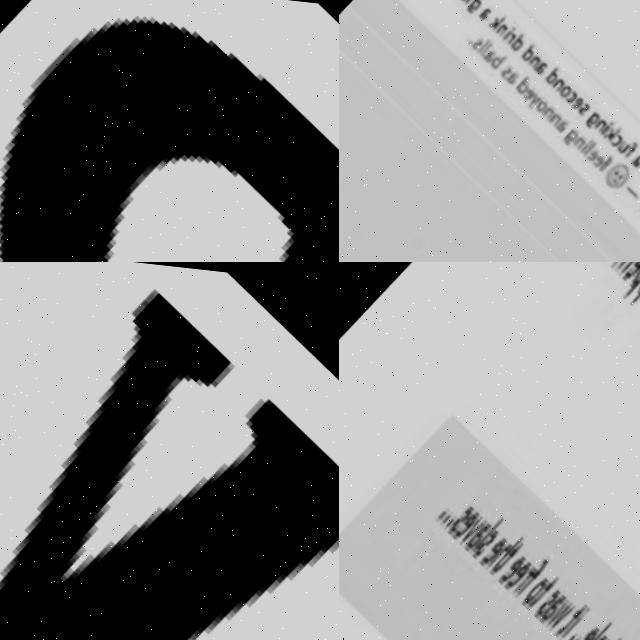A: (530, 50, 549, 70), (501, 60, 520, 80), (478, 38, 497, 58), (551, 106, 569, 126), (474, 0, 493, 16), (625, 141, 640, 158)
B: (486, 42, 507, 65)
C: (560, 79, 578, 97), (605, 123, 622, 139)
D: (0, 0, 339, 262), (517, 33, 538, 55), (507, 24, 528, 46), (512, 67, 533, 89), (541, 56, 561, 78)
E: (580, 136, 598, 155), (518, 77, 535, 95), (567, 86, 584, 103), (588, 144, 604, 160)
F: (616, 127, 638, 150), (593, 144, 612, 165)
G: (556, 118, 577, 139), (580, 100, 599, 121), (463, 0, 482, 9)
I: (596, 109, 613, 128), (574, 127, 591, 145), (500, 18, 515, 34)
K: (486, 3, 506, 25), (599, 113, 620, 133)
L: (478, 34, 494, 51), (579, 131, 594, 147), (474, 31, 489, 47)
N: (544, 102, 563, 120), (547, 67, 565, 84), (493, 14, 510, 32), (537, 95, 554, 113), (525, 45, 542, 62), (568, 124, 584, 142), (590, 108, 606, 124)
O: (554, 73, 573, 92), (530, 88, 548, 107)
R: (502, 24, 517, 39), (634, 149, 640, 166)
S: (573, 91, 590, 108), (497, 56, 514, 73), (468, 29, 484, 45)
U: (612, 129, 628, 146)
V: (0, 262, 339, 640)
Y: (521, 84, 540, 103), (629, 181, 640, 204)
